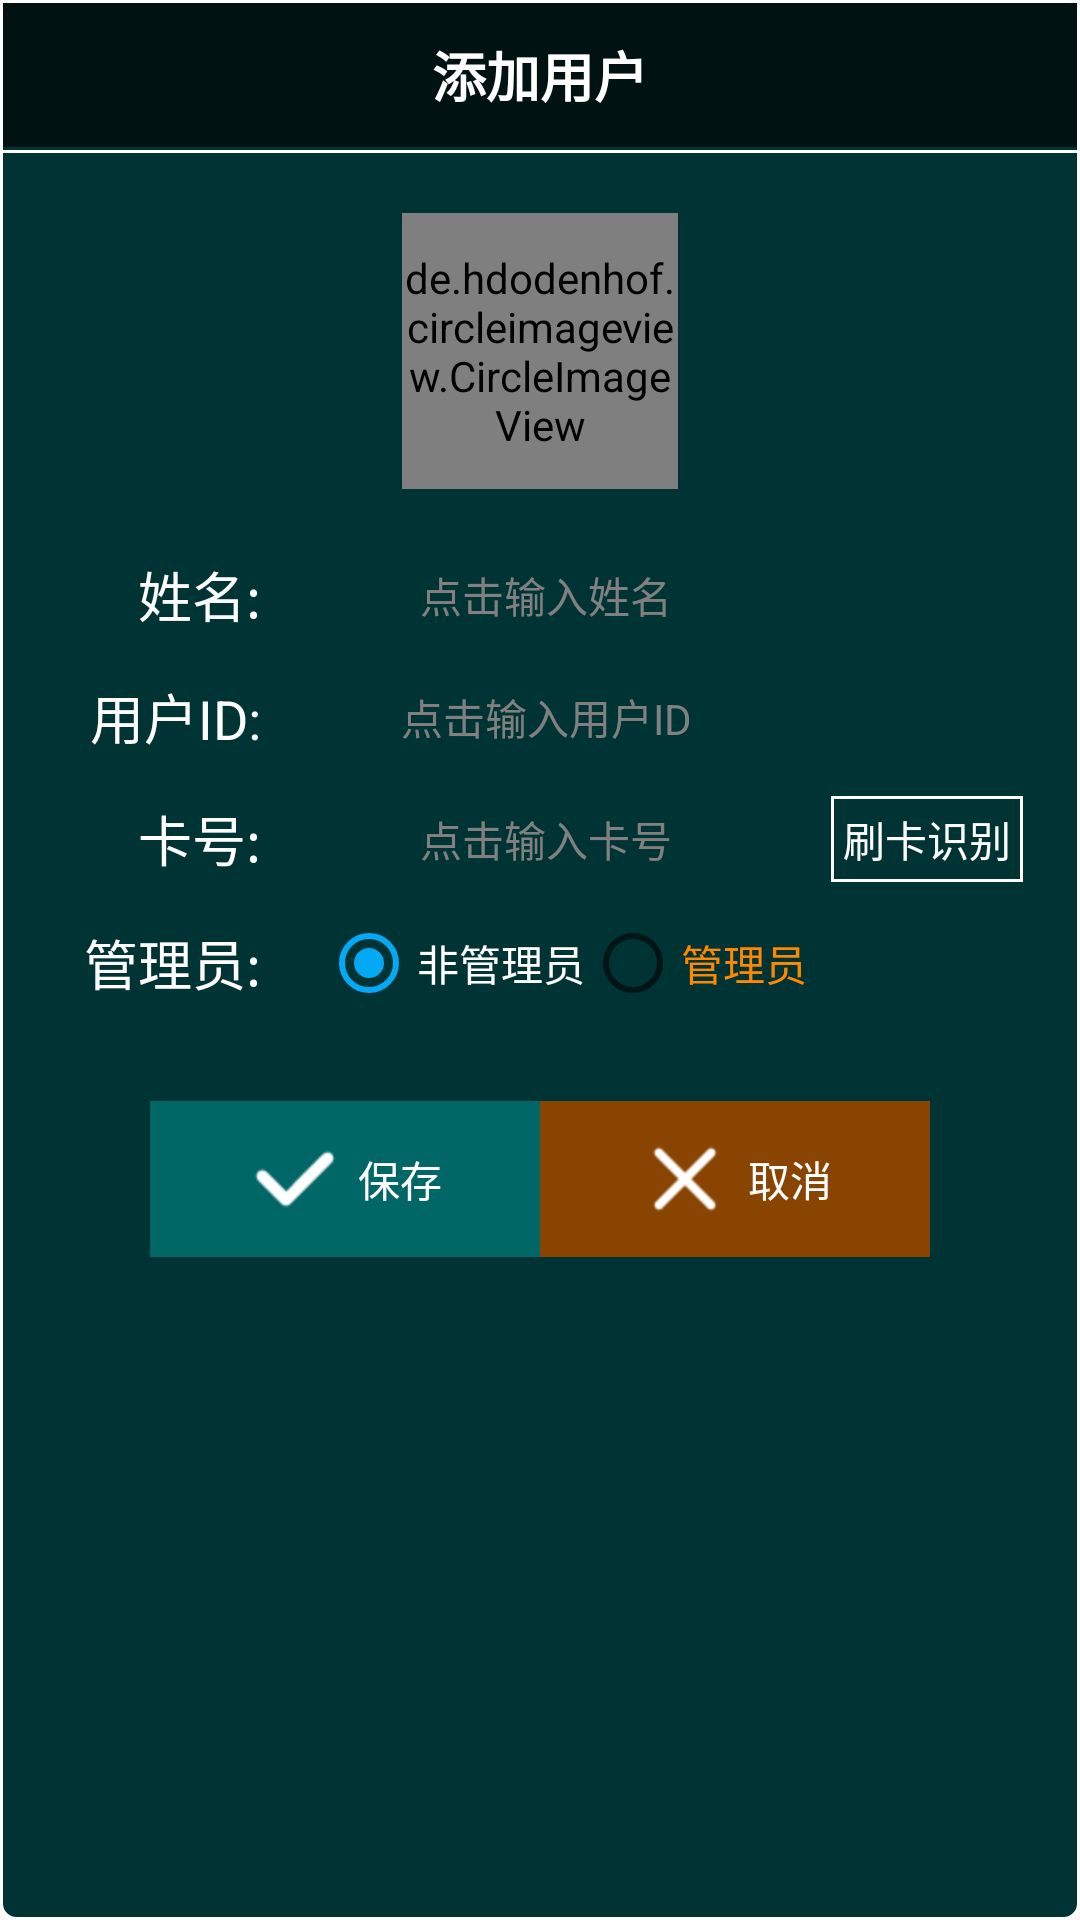

Icon bounding boxes for this 1080px x 1920px phone screenshot, format box=[x1, y1, x2, y2]:
success: box=[255, 1151, 335, 1207]
